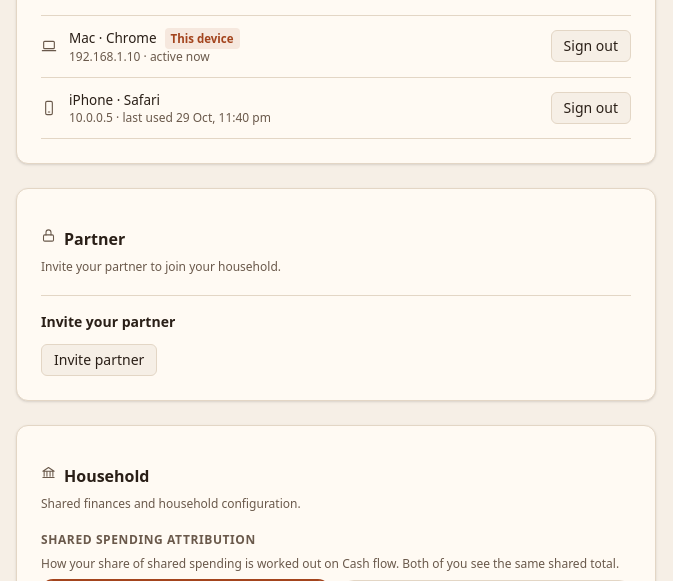
Test case: SettingsPage › renders partner invite flow for single user with canInvite
(page scrolled)
Click the button "Invite partner" at coordinates (99, 360), box [41,344,157,376]
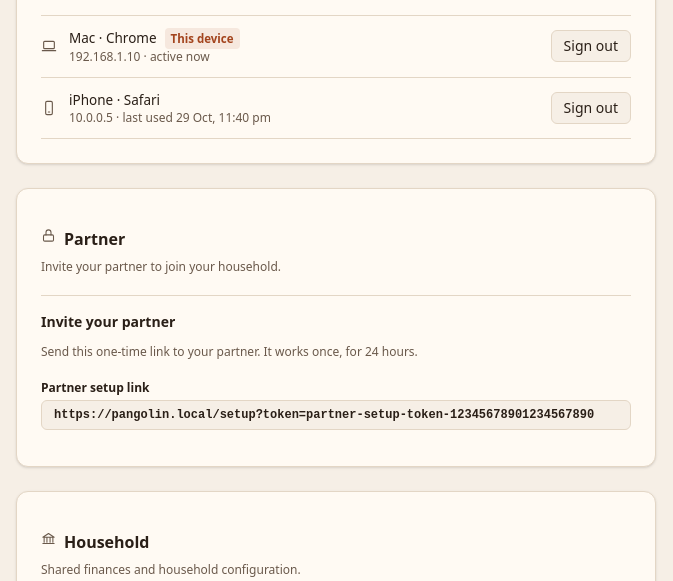
expect the field labelled "Partner setup link" holds "https://pangolin.local/setup?token=partner-setup-token-12345678901234567890": met, box [41,400,631,430]
